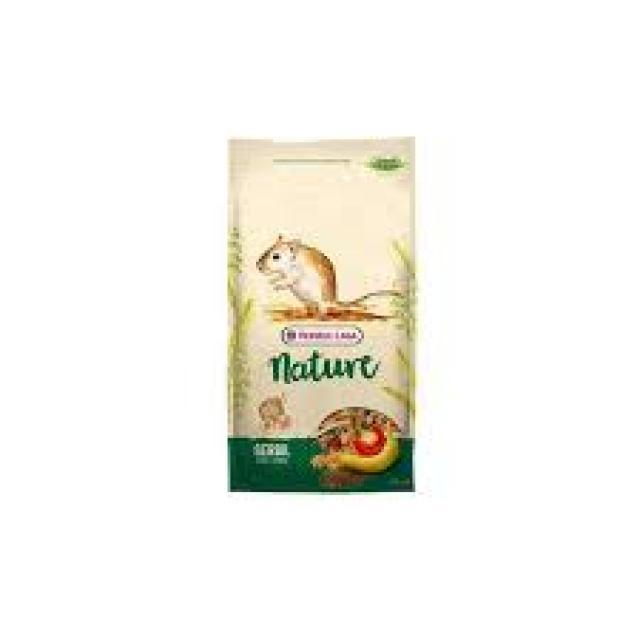Rat: (254, 234, 376, 326)
